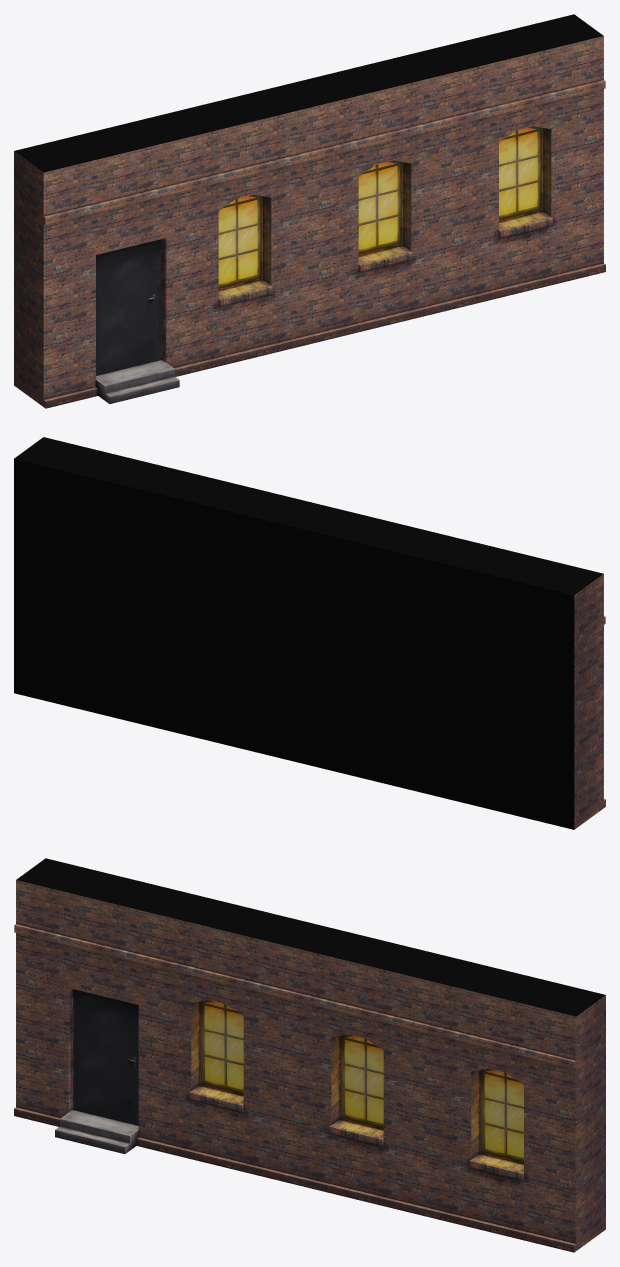
Rendered from House1.fbx.
3 views of the same model, one above another, from view 1: azimuth 30°, elevation 25°; view 2: azimuth 150°, elevation 25°; view 3: azimuth 330°, elevation 25° (orthographic).
Parts seen in each view (by area): view 1: Würfel; view 2: Würfel; view 3: Würfel.
Part boxes in pixels (x1=…): Würfel: x1=14, y1=14, x2=605, y2=408; Würfel: x1=14, y1=437, x2=605, y2=829; Würfel: x1=14, y1=858, x2=605, y2=1252.
Bounding box in the file's own units: 1000 × 400 × 133.
Materials: 1 (1 with a texture image).
